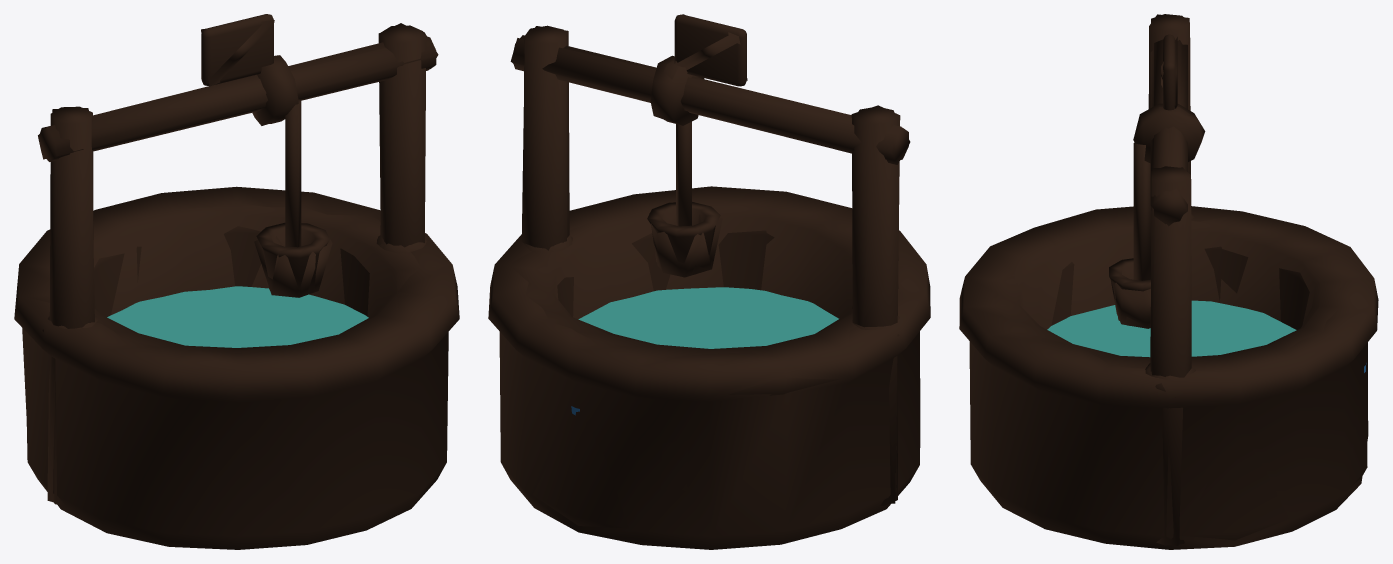
Rendered from well.glb.
3 renders of one model, left to right at view 1: azimuth 30°, elevation 25°; view 2: azimuth 150°, elevation 25°; view 3: azimuth 270°, elevation 25°, orthographic. The views are drawn at different scales.
Parts seen in each view (by area): view 1: well_LOD1_outline, well_outline, well; view 2: well_LOD1_outline, well_outline, well; view 3: well_LOD1_outline, well_outline, well.
Boxes of the visible parts, x1,y1,x2,y2 form: well_LOD1_outline: (14,20,459,549); well_outline: (26,14,436,505); well: (107,286,368,347); well_LOD1_outline: (488,14,930,549); well_outline: (510,14,913,528); well: (571,287,838,415); well_LOD1_outline: (959,14,1378,549); well_outline: (994,14,1367,545); well: (1047,300,1366,372).
Size of what is drawn, in the model's own units: 2.36 by 2.59 by 2.33.
